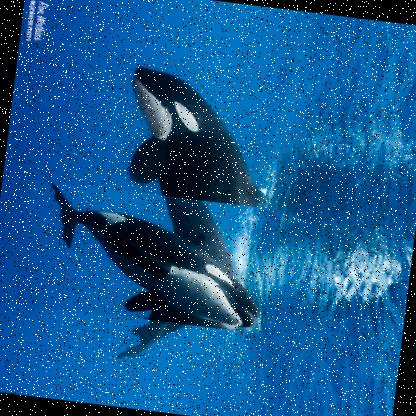killer_whale: (66, 45, 298, 380), (13, 178, 279, 334)
